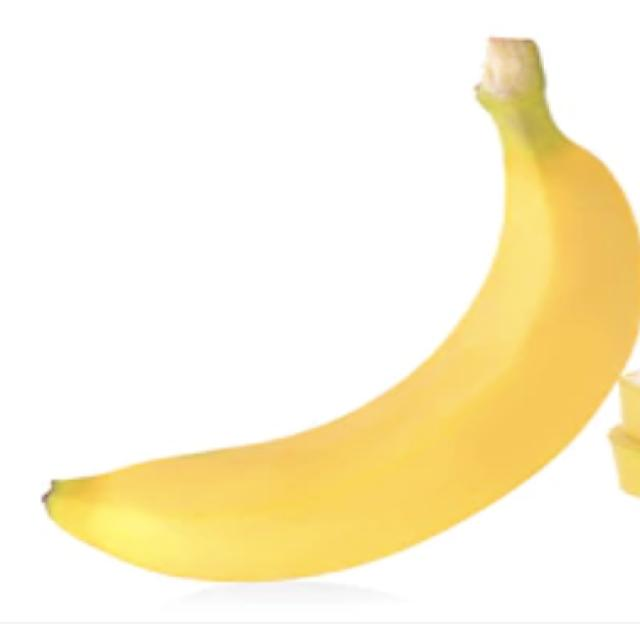fresh-banana: (39, 33, 638, 582)
